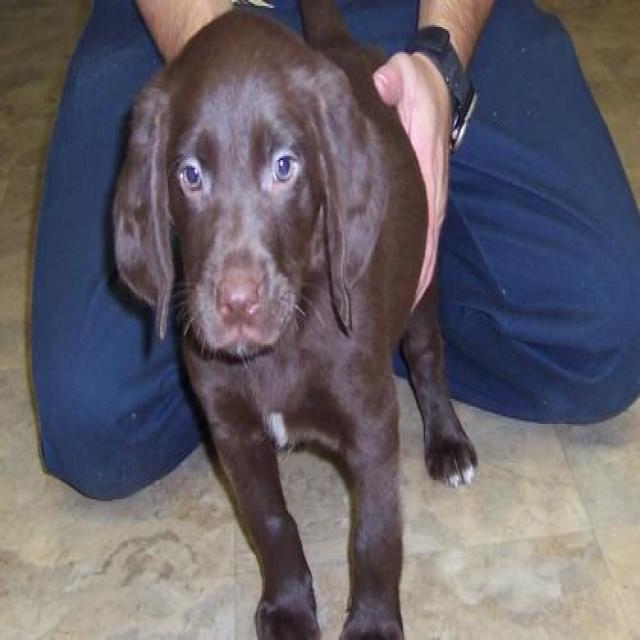Dogs: (110, 0, 479, 638)
